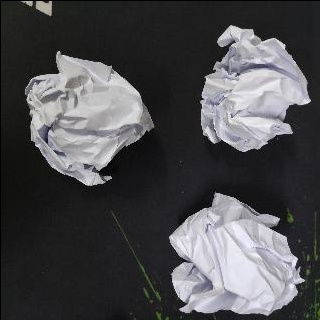8/可回收垃圾/纸: (24, 51, 154, 186), (169, 192, 306, 316), (199, 25, 311, 152)
